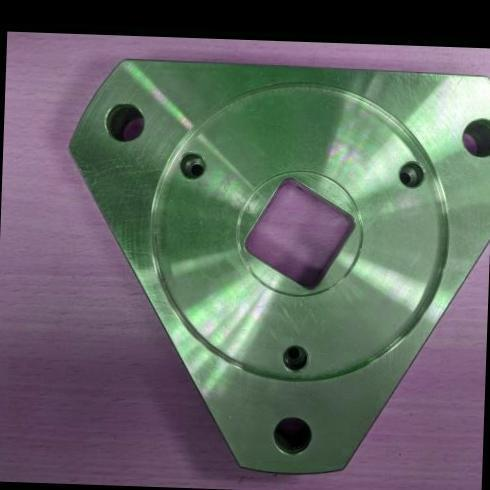hole: (268, 409, 322, 467), (98, 94, 152, 147), (168, 141, 217, 187), (273, 336, 318, 386), (393, 156, 437, 196), (457, 112, 490, 165)
